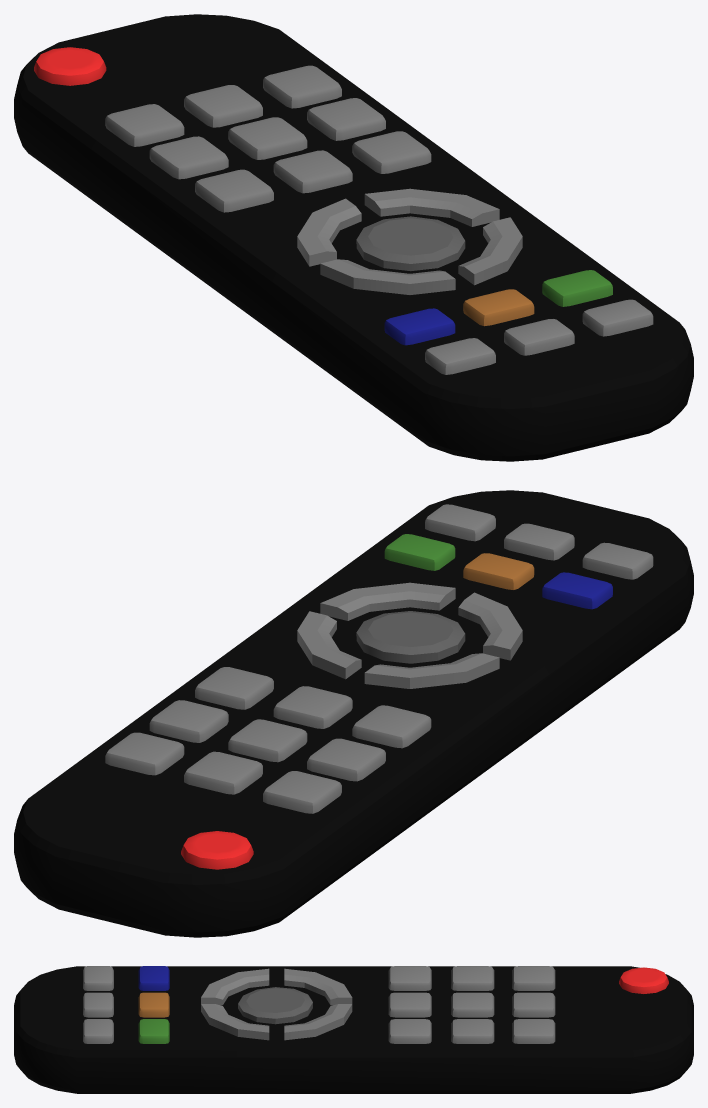
File: RemoteControl.fbx
3 views of the same model, one above another, from view 1: azimuth 30°, elevation 25°; view 2: azimuth 150°, elevation 25°; view 3: azimuth 270°, elevation 25° (orthographic). The views are drawn at different scales.
Parts seen in each view (by area): view 1: Object001; view 2: Object001; view 3: Object001.
Boxes of the visible parts, x1,y1,x2,y2 form: Object001: (14, 14, 693, 461); Object001: (14, 490, 693, 937); Object001: (14, 966, 693, 1093).
Size of the model in its own units: 6.77 by 1.82 by 21.69.
